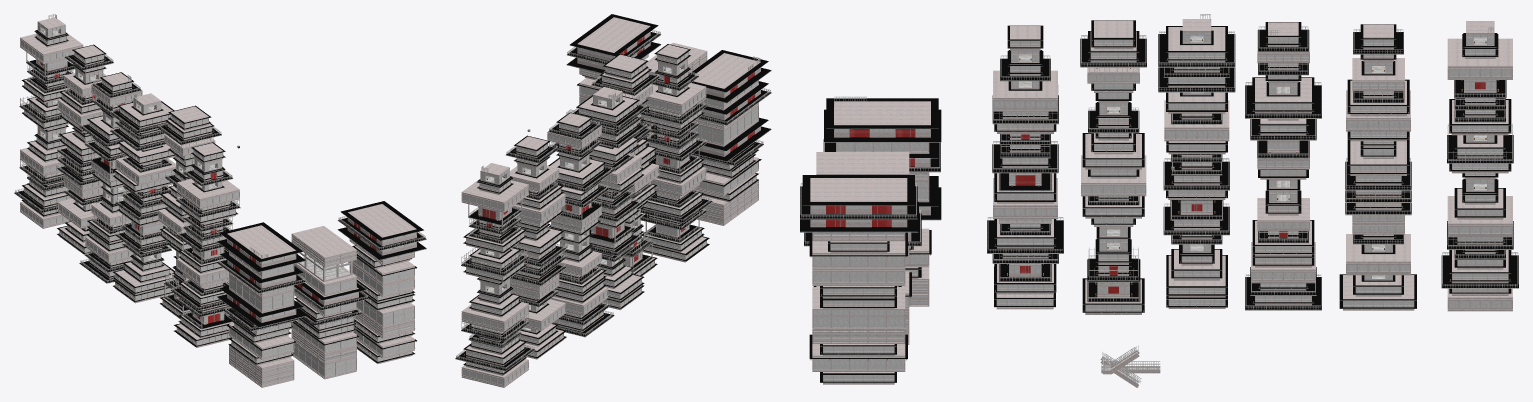
Rendered from infinity castle props.fbx.
3 renders of one model, left to right at view 1: azimuth 30°, elevation 25°; view 2: azimuth 150°, elevation 25°; view 3: azimuth 270°, elevation 25°, orthographic. The views are drawn at different scales.
Visible parts, largest first — view 1: node_7b709ca9_9d89_4c16_b774_3398c44d3718_mesh6, node_7b709ca9_9d89_4c16_b774_3398c44d3718_mesh5, node_7b709ca9_9d89_4c16_b774_3398c44d3718_mesh7, node_7b709ca9_9d89_4c16_b774_3398c44d3718_mesh4, node_7b709ca9_9d89_4c16_b774_3398c44d3718_mesh11, node_7b709ca9_9d89_4c16_b774_3398c44d3718_mesh9; view 2: node_7b709ca9_9d89_4c16_b774_3398c44d3718_mesh6, node_7b709ca9_9d89_4c16_b774_3398c44d3718_mesh5, node_7b709ca9_9d89_4c16_b774_3398c44d3718_mesh7, node_7b709ca9_9d89_4c16_b774_3398c44d3718_mesh4, node_7b709ca9_9d89_4c16_b774_3398c44d3718_mesh11, node_7b709ca9_9d89_4c16_b774_3398c44d3718_mesh9; view 3: node_7b709ca9_9d89_4c16_b774_3398c44d3718_mesh6, node_7b709ca9_9d89_4c16_b774_3398c44d3718_mesh5, node_7b709ca9_9d89_4c16_b774_3398c44d3718_mesh7, node_7b709ca9_9d89_4c16_b774_3398c44d3718_mesh4, node_7b709ca9_9d89_4c16_b774_3398c44d3718_mesh11.
Part boxes in pixels (x1,y1,x2,y2): node_7b709ca9_9d89_4c16_b774_3398c44d3718_mesh6: (15, 15, 425, 387); node_7b709ca9_9d89_4c16_b774_3398c44d3718_mesh5: (14, 30, 426, 364); node_7b709ca9_9d89_4c16_b774_3398c44d3718_mesh7: (21, 23, 415, 385); node_7b709ca9_9d89_4c16_b774_3398c44d3718_mesh4: (14, 14, 426, 386); node_7b709ca9_9d89_4c16_b774_3398c44d3718_mesh11: (40, 62, 376, 323); node_7b709ca9_9d89_4c16_b774_3398c44d3718_mesh9: (22, 36, 416, 351); node_7b709ca9_9d89_4c16_b774_3398c44d3718_mesh6: (456, 17, 770, 387); node_7b709ca9_9d89_4c16_b774_3398c44d3718_mesh5: (455, 14, 771, 374); node_7b709ca9_9d89_4c16_b774_3398c44d3718_mesh7: (462, 32, 760, 384); node_7b709ca9_9d89_4c16_b774_3398c44d3718_mesh4: (455, 27, 771, 386); node_7b709ca9_9d89_4c16_b774_3398c44d3718_mesh11: (482, 36, 754, 275); node_7b709ca9_9d89_4c16_b774_3398c44d3718_mesh9: (464, 55, 760, 364); node_7b709ca9_9d89_4c16_b774_3398c44d3718_mesh6: (801, 15, 1517, 387); node_7b709ca9_9d89_4c16_b774_3398c44d3718_mesh5: (800, 20, 1518, 382); node_7b709ca9_9d89_4c16_b774_3398c44d3718_mesh7: (811, 32, 1511, 380); node_7b709ca9_9d89_4c16_b774_3398c44d3718_mesh4: (800, 14, 1518, 387); node_7b709ca9_9d89_4c16_b774_3398c44d3718_mesh11: (826, 82, 1485, 293).
Bounding box in the file's own units: 21071 × 23819 × 56311.
Materials: 14 (10 with a texture image).
